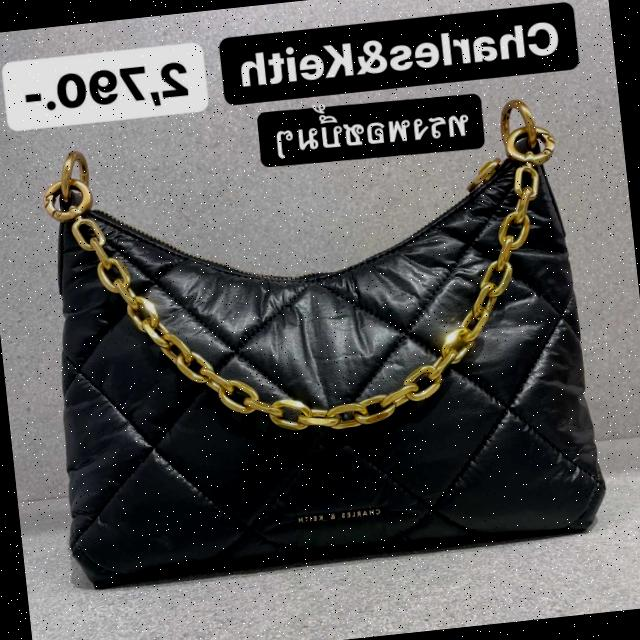Handbag: (30, 96, 612, 591)
